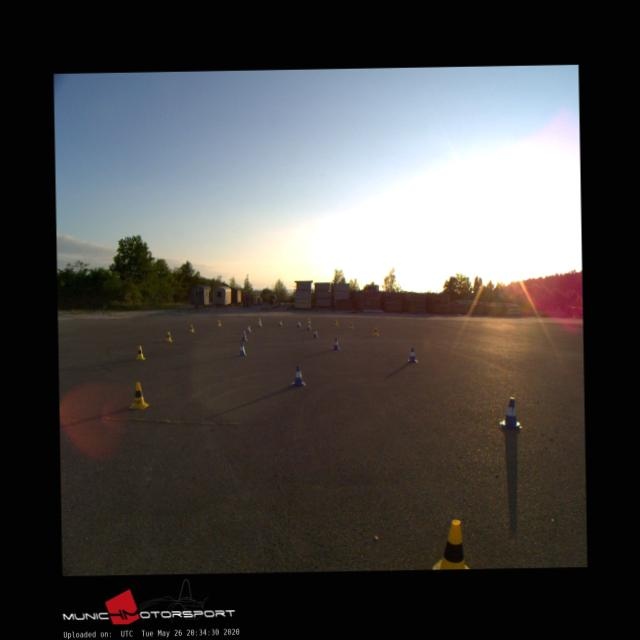blue_cone: (498, 396, 522, 428), (290, 364, 305, 386), (406, 347, 416, 363), (331, 336, 340, 348), (238, 342, 245, 356), (239, 330, 247, 340), (312, 328, 317, 336), (246, 324, 250, 332), (306, 322, 310, 329), (278, 319, 282, 325), (296, 321, 300, 326), (257, 321, 261, 326)
yellow_cone: (432, 520, 468, 570), (128, 380, 148, 408), (135, 344, 144, 358), (164, 331, 172, 342), (188, 324, 194, 332), (372, 326, 378, 334), (333, 319, 338, 325), (217, 319, 221, 326), (348, 322, 352, 328), (306, 317, 310, 323)
